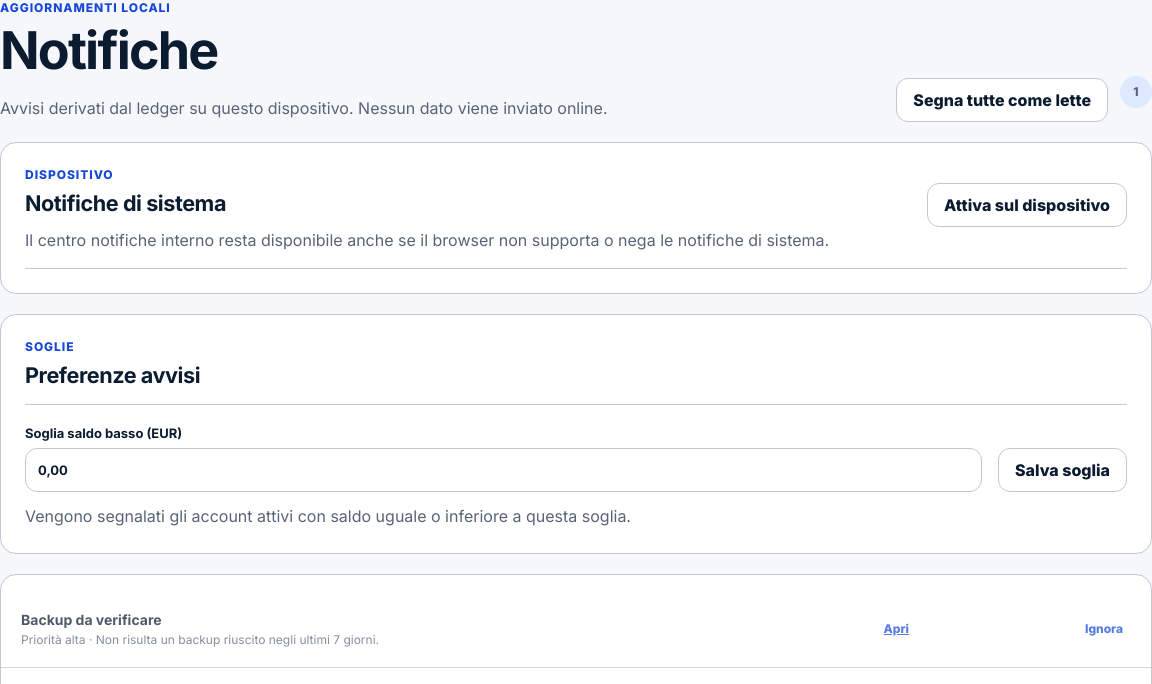
Test: NotificationsPage › persists dismissed local alerts separately from the ledger and renders the empty state
Check: the heading "Preferenze avvisi" is shown, box 25,362 -> 200,388
What coordinates should you click on to do the following:
click the button with aria-label "Ignora notifica: Backup da verificare"
I would click on:
 (1104, 628)
Its box is 1077,606 -> 1131,650.
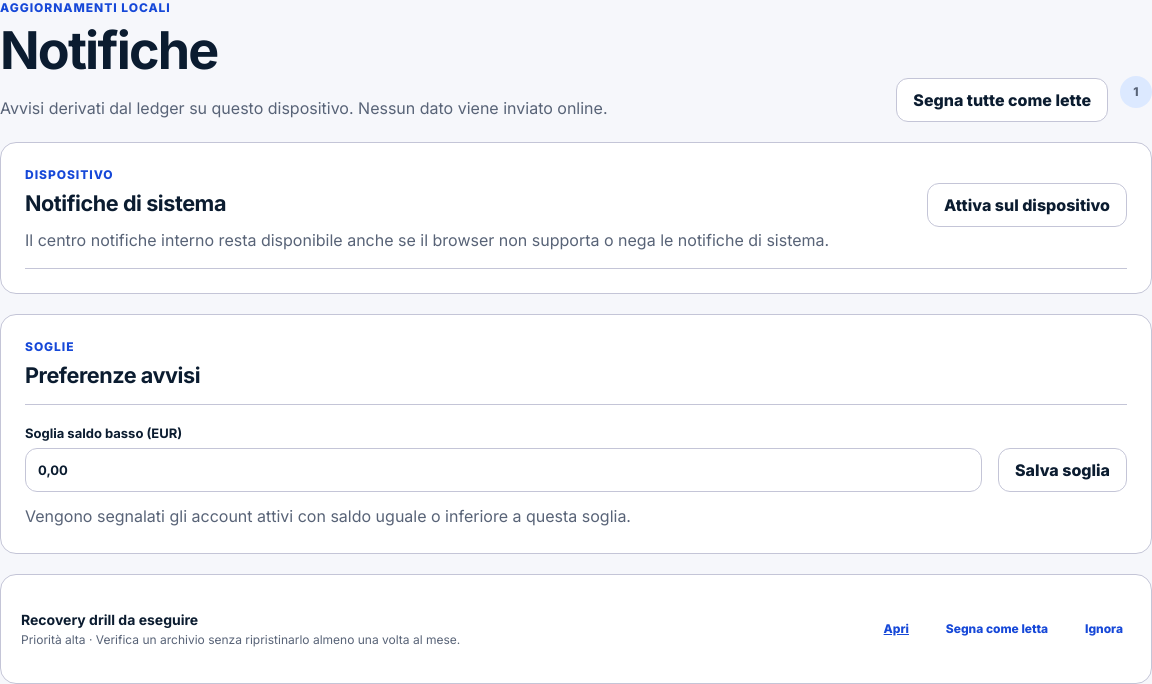
What coordinates should you click on to do the following:
click the button with aria-label "Ignora notifica: Recovery drill da eseguire"
I would click on:
 (1104, 628)
Its box is 1077,606 -> 1131,650.
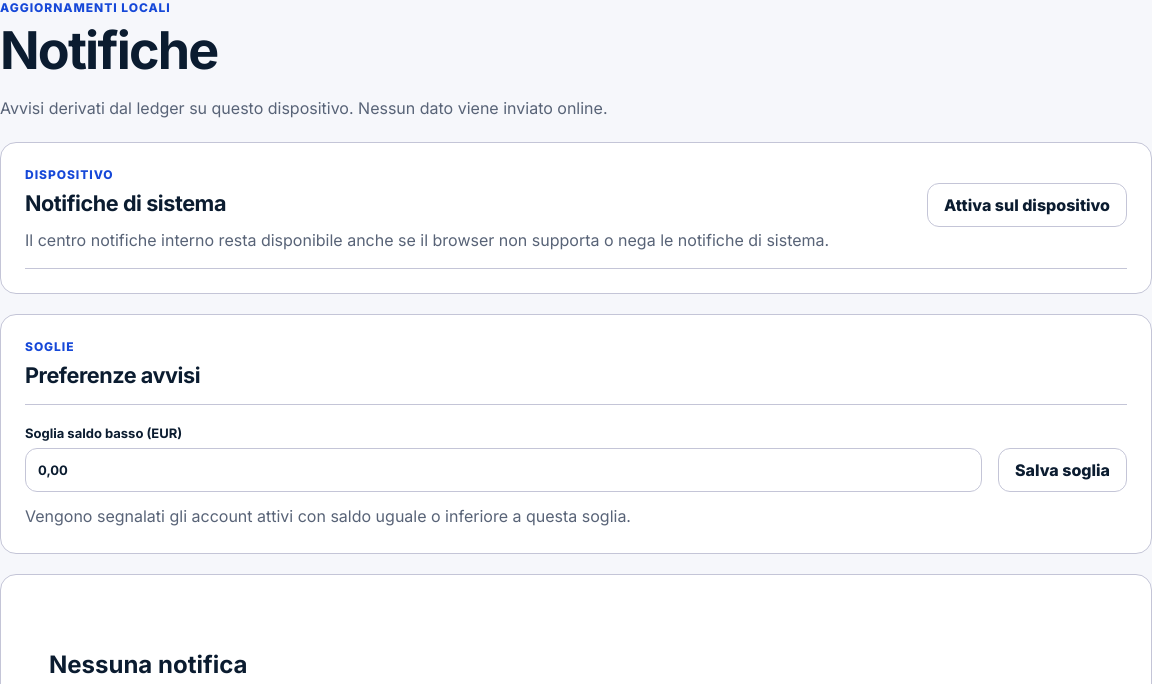
Check: the heading "Nessuna notifica" is shown, box 49,650 -> 248,679
